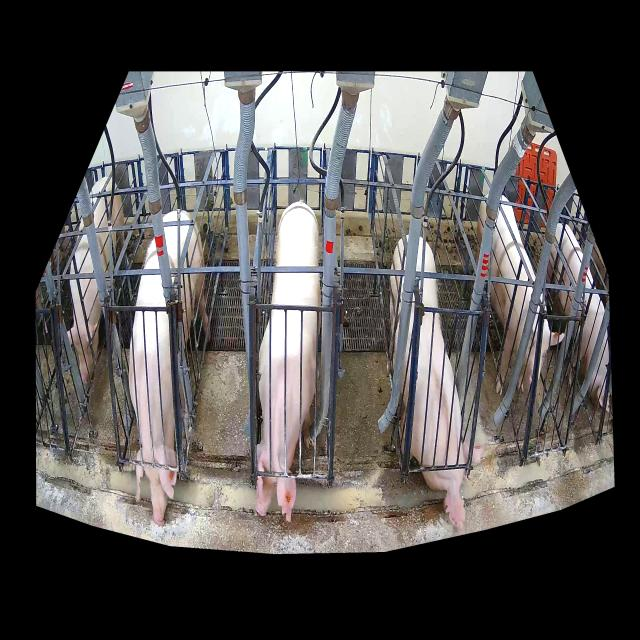pig: (389, 235, 487, 529), (129, 210, 208, 525), (254, 201, 321, 523), (476, 193, 563, 397), (67, 176, 129, 386), (548, 222, 610, 412)
